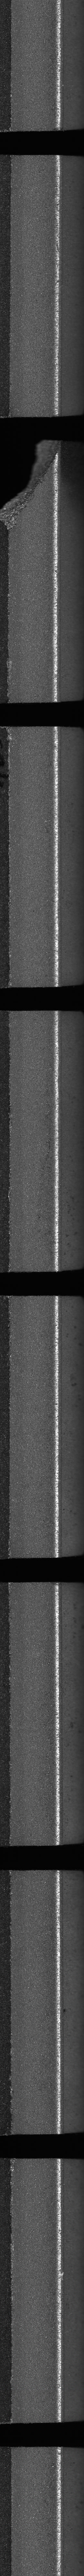Chip: (0, 435, 64, 540)
